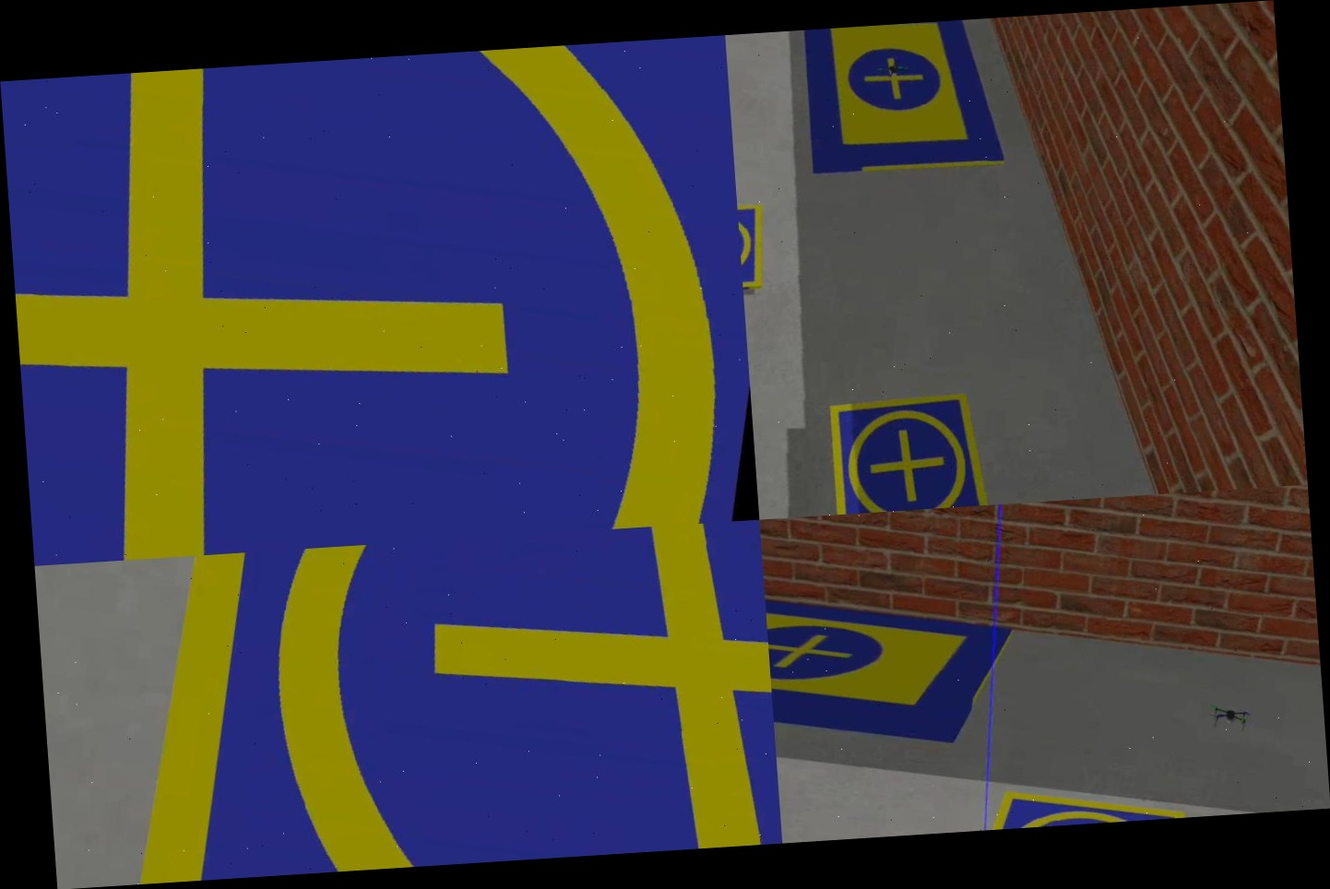large_base: (762, 535, 1025, 765), (770, 16, 1039, 210)
small_base: (0, 35, 759, 566), (72, 520, 782, 886), (802, 369, 1019, 516), (944, 768, 1220, 832), (736, 183, 778, 314)
